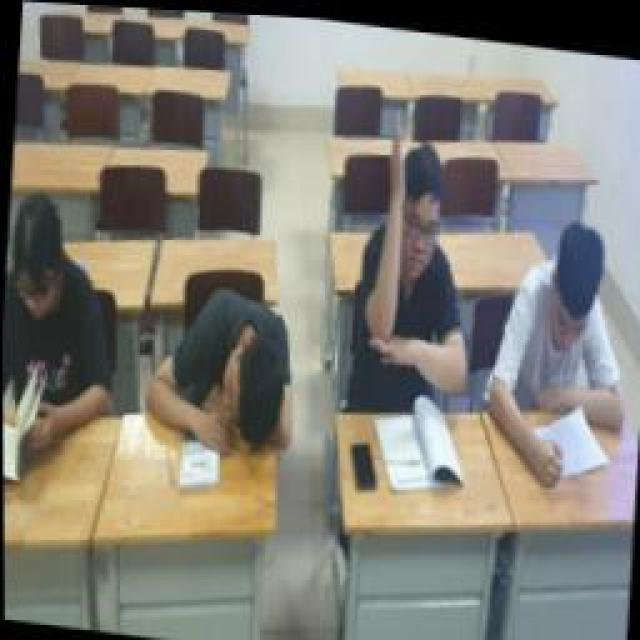sleep: (138, 280, 300, 455)
study: (340, 102, 488, 488), (485, 208, 635, 482), (0, 182, 122, 492)
